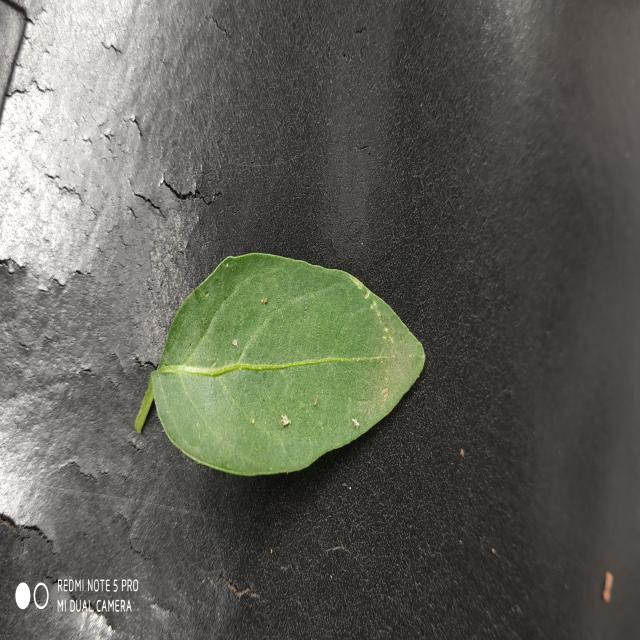ganike: (135, 253, 425, 476)
